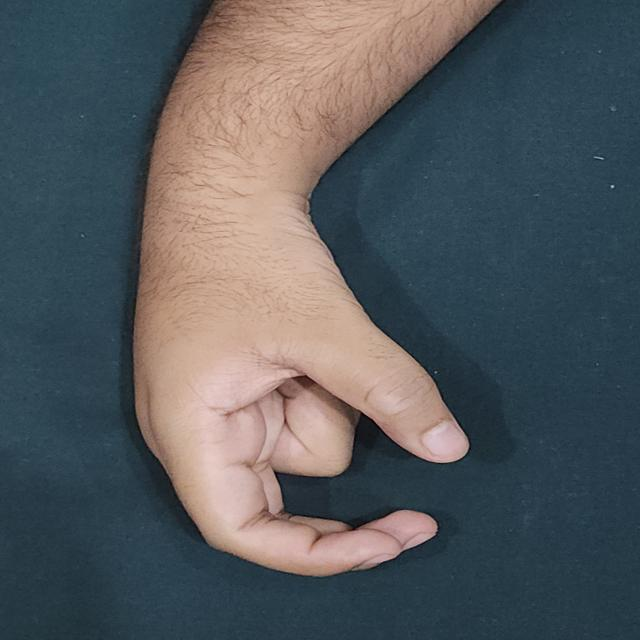ٹ: (94, 137, 507, 577)
